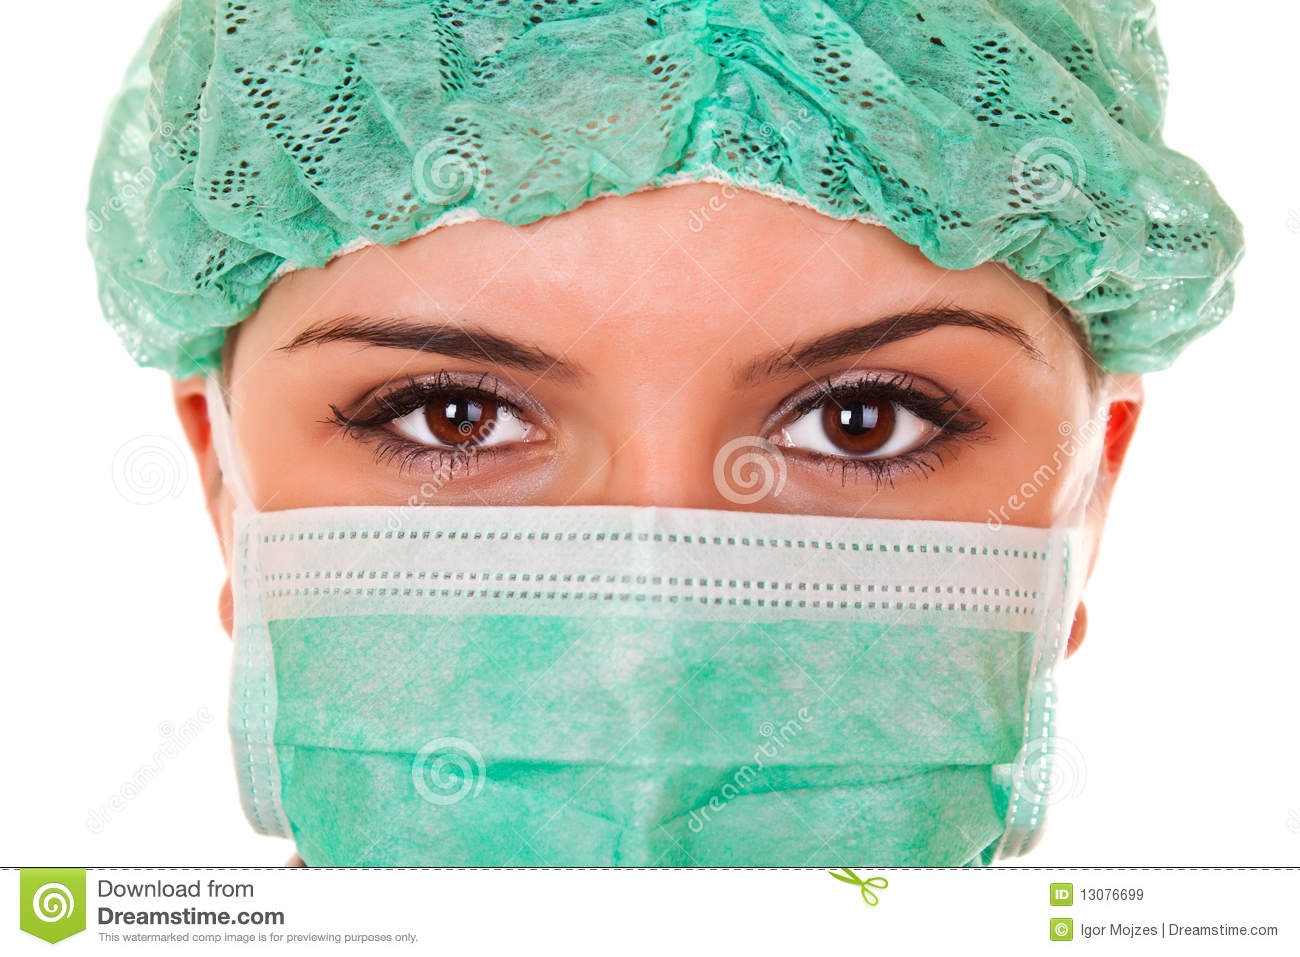mask: (222, 493, 1077, 871)
